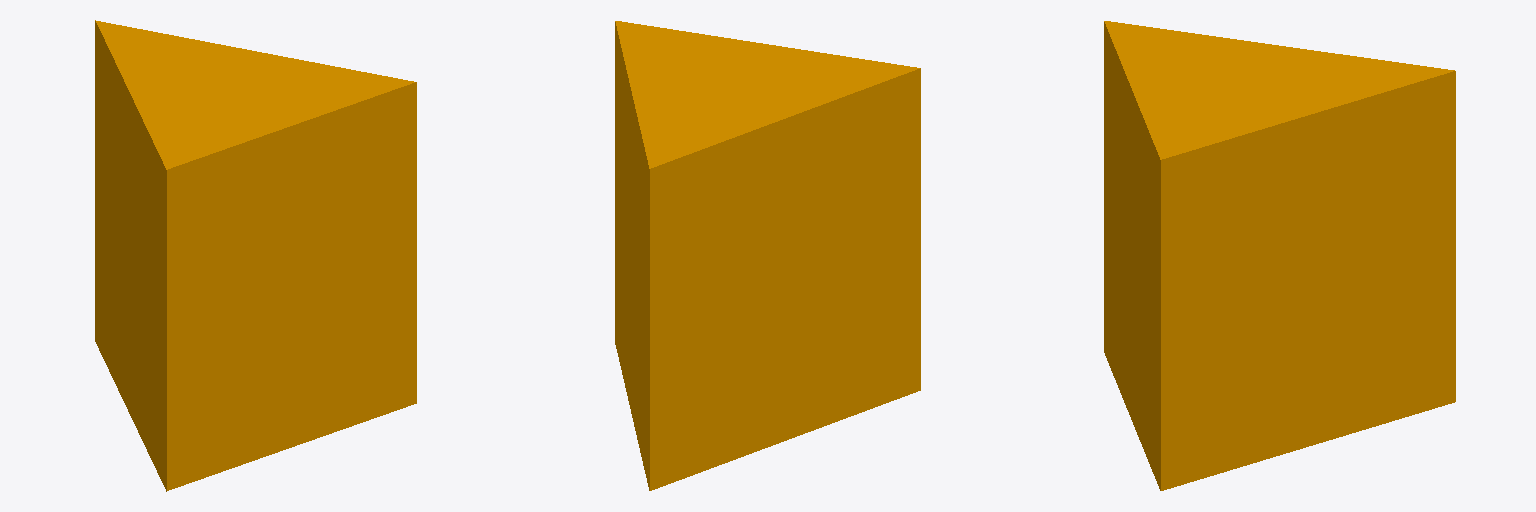
URDF robot description (object):
<?xml version="1.0"?>
<robot name="object">
  <link name="object">
    <visual>
      <origin xyz="0 0 0"/>
      <geometry>
        <mesh filename="meshes/generated/col_019.obj" scale="0.03 0.03 0.03"/>
      </geometry>
    </visual>
    <collision>
      <origin xyz="0 0 0"/>
      <geometry>
        <mesh filename="meshes/generated/col_019.obj" scale="0.03 0.03 0.03"/>
      </geometry>
    </collision>
    <inertial>
      <density value="1000.0"/>
    </inertial>
  </link>
</robot>

--- Render facts (derived) ---
The picture shows the robot from 3 angles, left to right: view 1: azimuth 30°, elevation 25°; view 2: azimuth 150°, elevation 25°; view 3: azimuth 270°, elevation 25°; orthographic projection.
Model object with 1 links and 0 joints (none), rooted at object, posed all joints at 0.
Links seen in each view (by area): view 1: object; view 2: object; view 3: object.
Boxes of the visible links, left/top/right/bottom form: object: left=95, top=20, right=416, bottom=491; object: left=615, top=21, right=920, bottom=490; object: left=1104, top=21, right=1455, bottom=490.
Bounding box of the posed robot: 0.0542 × 0.0578 × 0.06 m (x, y, z).
Meshes: 1 distinct files referenced, 1 mesh visuals loaded (1 OBJ).
